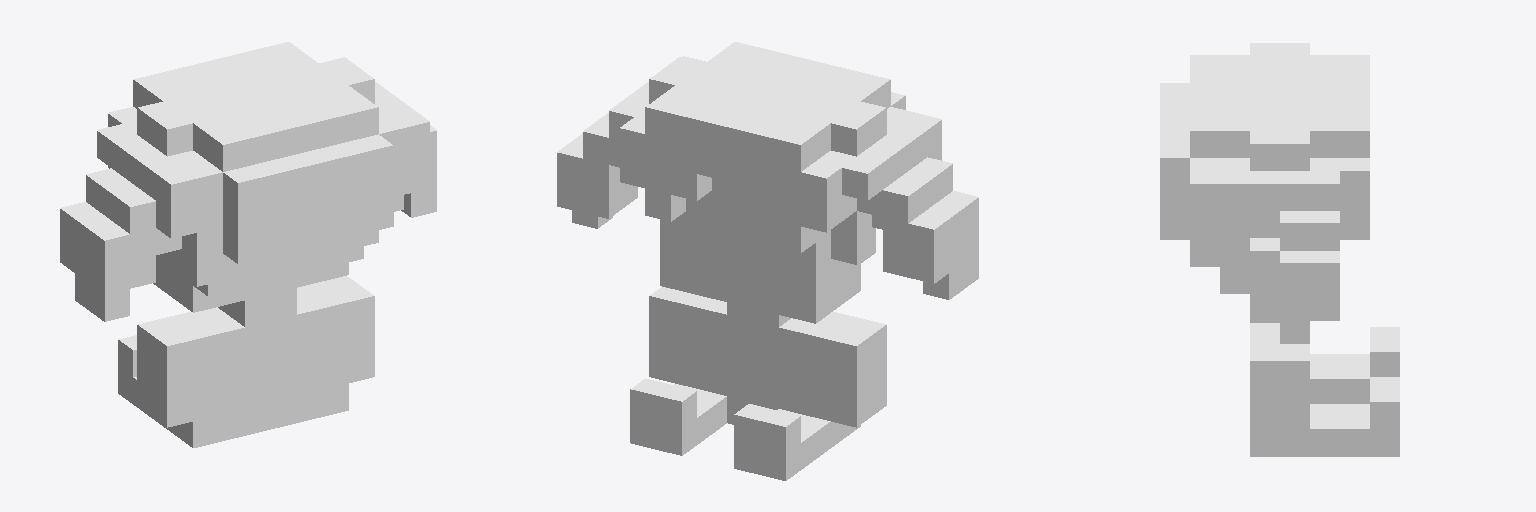
The model's file is crianca1sentada.obj.
The picture shows the model from 3 angles: view 1: azimuth 30°, elevation 25°; view 2: azimuth 150°, elevation 25°; view 3: azimuth 270°, elevation 25°; orthographic projection.
Parts seen in each view (by area): view 1: object 1; view 2: object 1; view 3: object 1.
Part boxes in pixels (left/top/right/bottom): object 1: left=60, top=42, right=436, bottom=447; object 1: left=557, top=42, right=978, bottom=480; object 1: left=1160, top=43, right=1399, bottom=456.
Bounding box in the file's own units: 1.4 × 1.2 × 0.8.